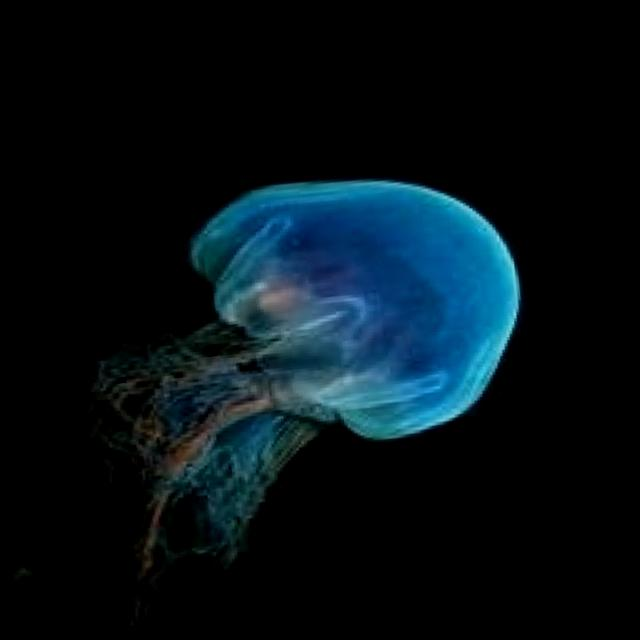Moon-jellyfish: (39, 137, 577, 640)
